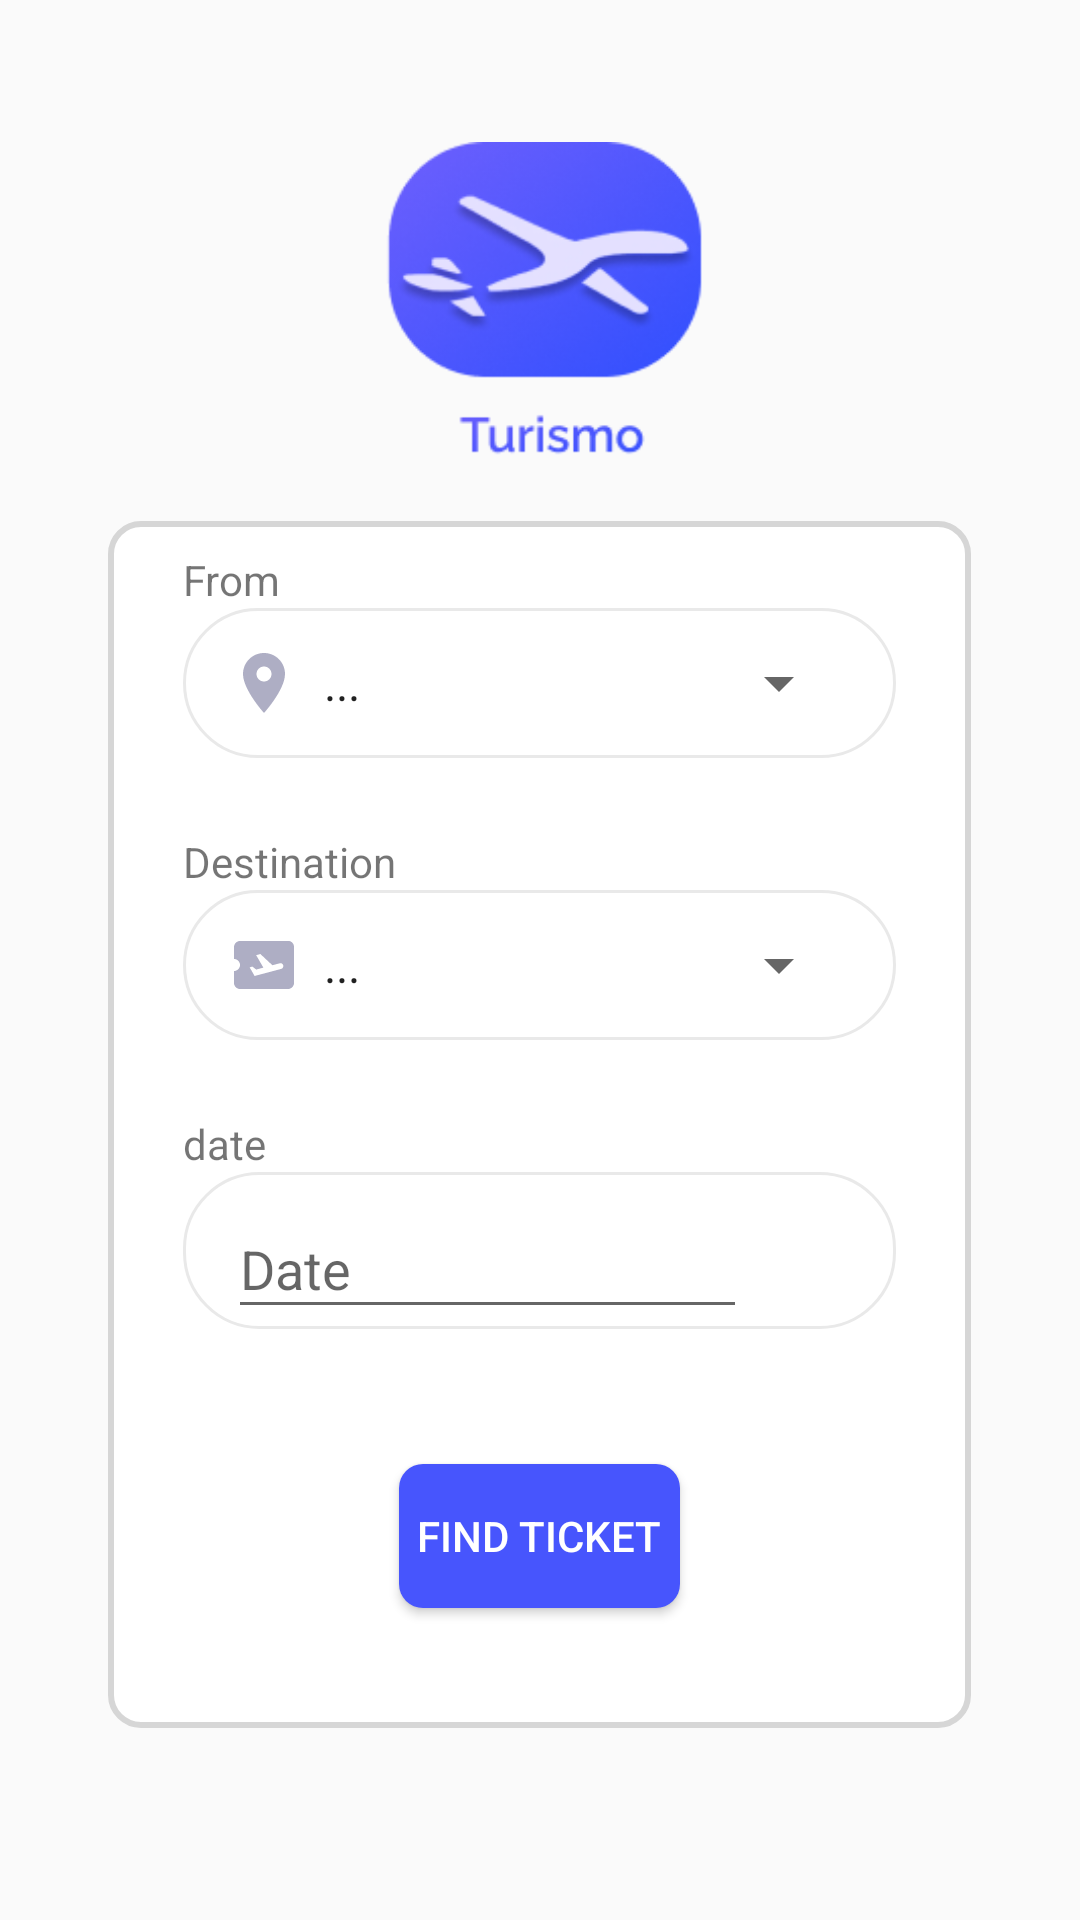

Icons on this 1080px×1920px Android screen, each with the point to tap as (x,y):
pinloc: (264,683)
